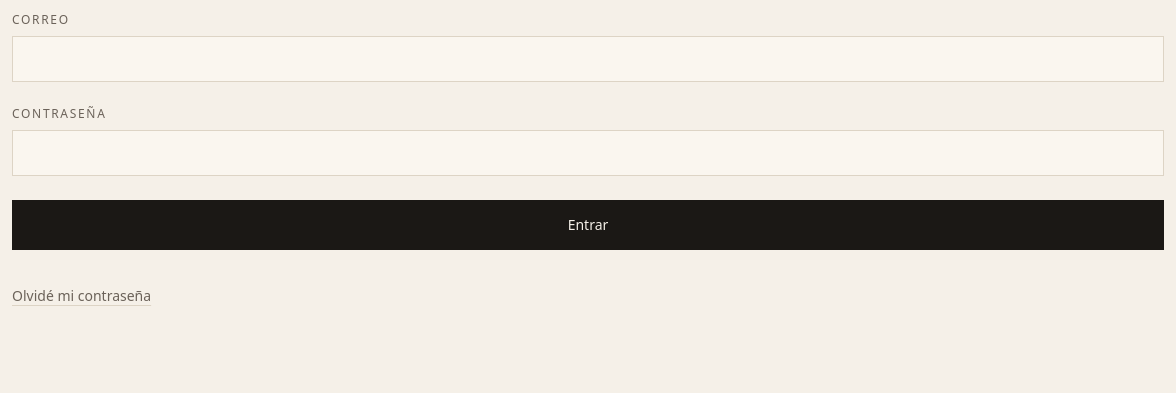
LoginForm — password reset › sends the reset email for the typed address and confirms without saying whether it exists
Type "admin@example.com" into the field labelled "Correo". click: (588, 59)
box: [12,36,1164,82]
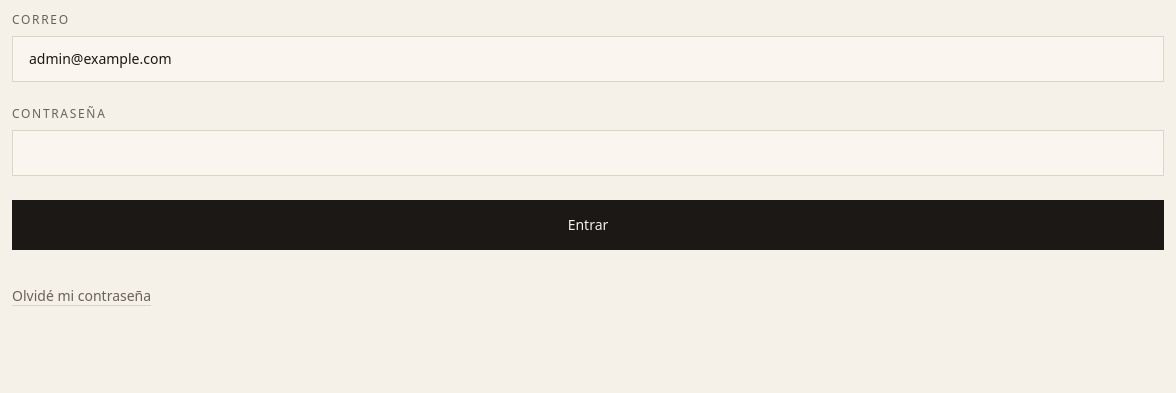
Click the button "Olvidé mi contraseña". click: (82, 296)
box: [12,274,151,318]
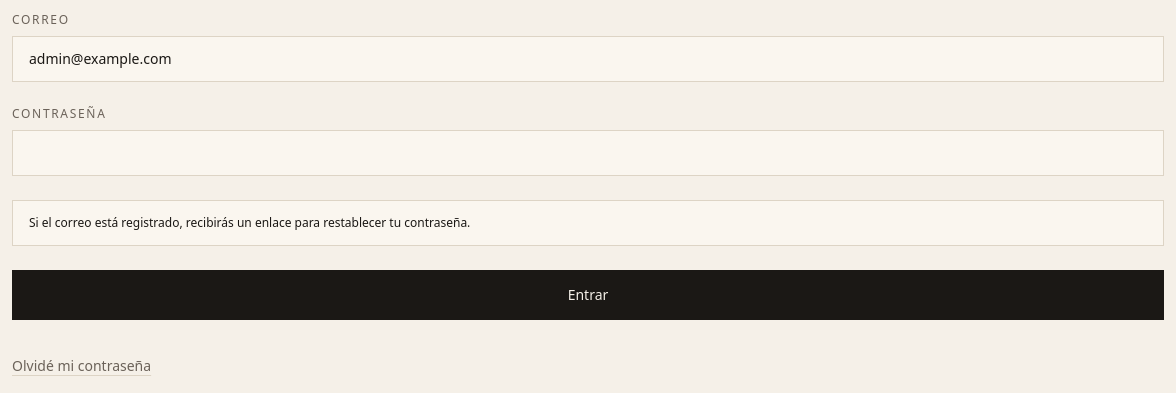
Expected: the message shows "Si el correo está registrado, recibirás un enlace para restablecer tu contraseña.", [29,214,470,231]
